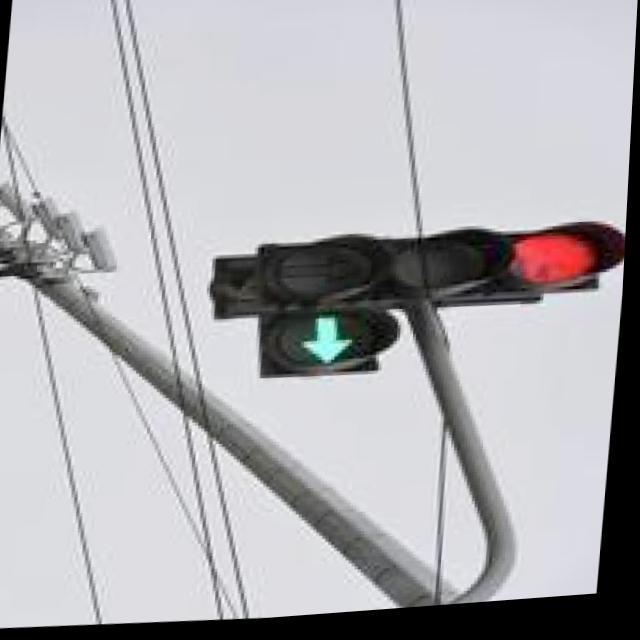red_light: (493, 183, 631, 361)
